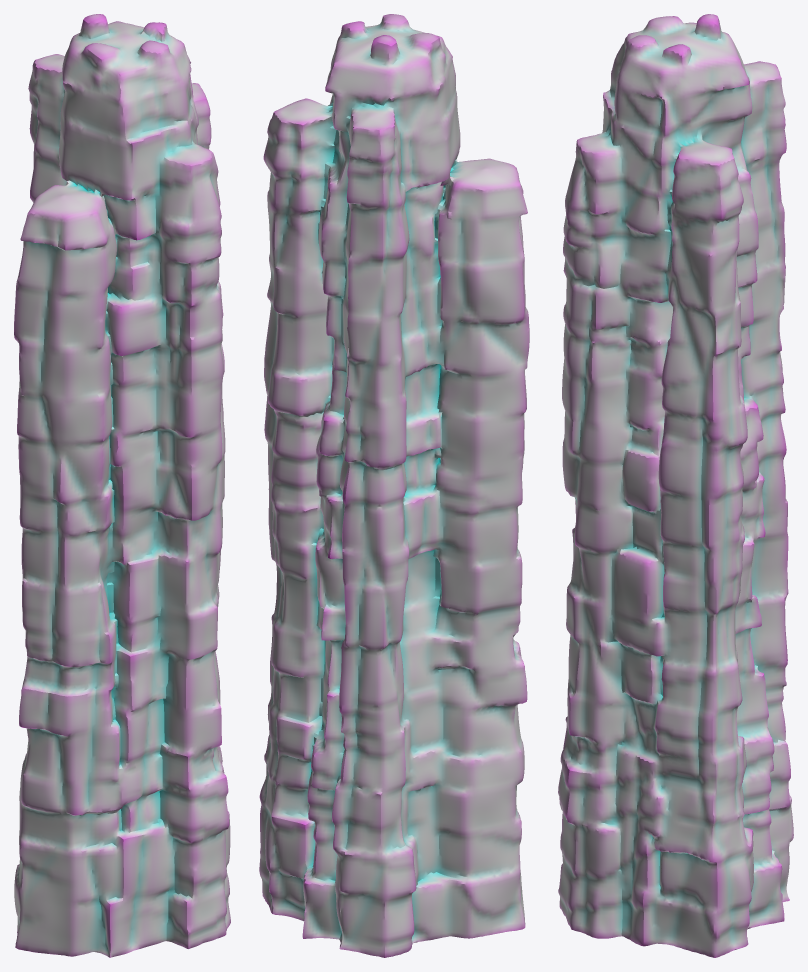
The model's file is Pico_Destaque_1.fbx.
3 views of the same model, side by side, from view 1: azimuth 30°, elevation 25°; view 2: azimuth 150°, elevation 25°; view 3: azimuth 270°, elevation 25° (orthographic).
Visible parts, largest first — view 1: Pico_Destaque_1; view 2: Pico_Destaque_1; view 3: Pico_Destaque_1.
Boxes of the visible parts, x1,y1,x2,y2 form: Pico_Destaque_1: (14,14,230,957); Pico_Destaque_1: (259,14,529,957); Pico_Destaque_1: (558,14,793,957).
Size of the model in its own units: 86.73 by 315 by 75.9.
